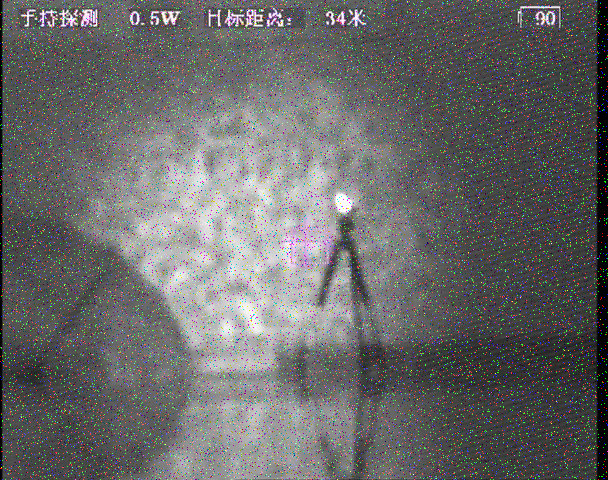my: (333, 191, 353, 214)
